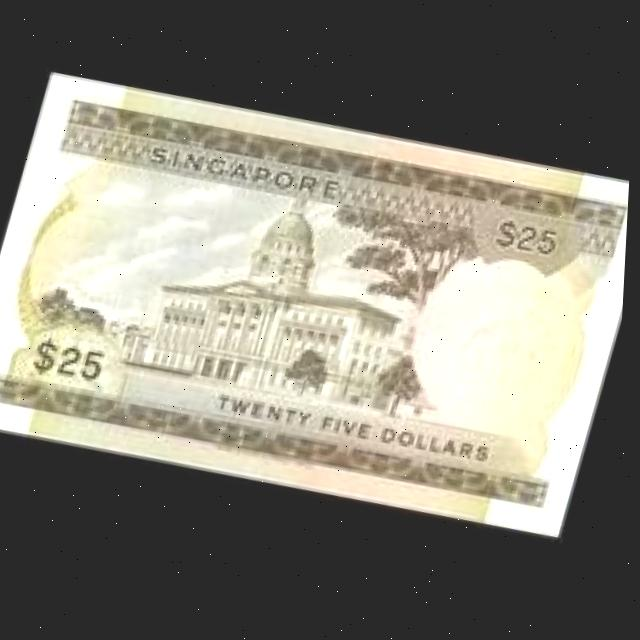banknote: (0, 47, 637, 563), (205, 373, 517, 486), (17, 327, 124, 395), (486, 210, 583, 283)
